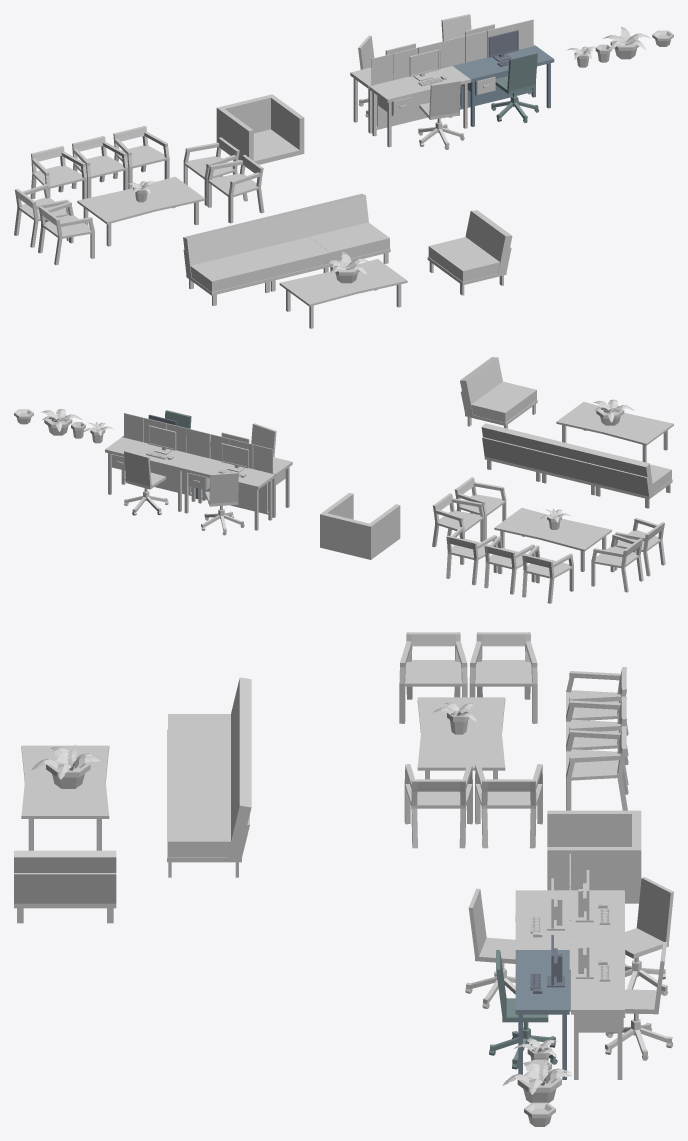
Rendered from V2_Desk_Rico.fbx.
3 views of the same model, one above another, from view 1: azimuth 30°, elevation 25°; view 2: azimuth 150°, elevation 25°; view 3: azimuth 270°, elevation 25° (orthographic). The views are drawn at different scales.
Visible parts, largest first — view 1: Cube, Cube.030, Cube.034, Cube.036, Cube.035, Cube.028, Cube.037, Cube.005, Cube.015, Cube.033, Cube.020, Cube.027 (+18 smaller); view 2: Cube, Cube.036, Cube.030, Cube.028, Cube.017, Cube.037, Cube.025, Cube.035, Cube.034, Cube.022, Cube.021, Cube.038 (+15 smaller); view 3: Cube, Cube.036, Cube.035, Cube.028, Cube.037, Cube.025, Cube.030, Cube.034, Cube.015, Cube.001, Cube.038, Cube.022 (+16 smaller).
Part boxes in pixels (x1=…): Cube: x1=216, y1=94, x2=304, y2=164; Cube.030: x1=183, y1=222, x2=272, y2=305; Cube.034: x1=244, y1=208, x2=330, y2=291; Cube.036: x1=427, y1=210, x2=512, y2=295; Cube.035: x1=302, y1=193, x2=390, y2=271; Cube.028: x1=77, y1=176, x2=205, y2=246; Cube.037: x1=279, y1=259, x2=407, y2=328; Cube.005: x1=369, y1=66, x2=470, y2=147; Cube.015: x1=453, y1=45, x2=554, y2=126; Cube.033: x1=207, y1=155, x2=264, y2=223; Cube.020: x1=418, y1=80, x2=464, y2=149; Cube.027: x1=30, y1=146, x2=86, y2=199; Cube: x1=320, y1=493, x2=400, y2=559; Cube.036: x1=460, y1=357, x2=537, y2=428; Cube.030: x1=590, y1=450, x2=672, y2=508; Cube.028: x1=494, y1=508, x2=611, y2=571; Cube.017: x1=181, y1=456, x2=275, y2=530; Cube.037: x1=556, y1=402, x2=673, y2=462; Cube.025: x1=105, y1=437, x2=198, y2=511; Cube.035: x1=481, y1=423, x2=540, y2=481; Cube.034: x1=536, y1=436, x2=595, y2=495; Cube.022: x1=201, y1=472, x2=244, y2=535; Cube.021: x1=124, y1=450, x2=168, y2=515; Cube.038: x1=591, y1=534, x2=643, y2=592; Cube: x1=547, y1=810, x2=641, y2=903; Cube.036: x1=14, y1=850, x2=116, y2=923; Cube.035: x1=167, y1=762, x2=251, y2=877; Cube.028: x1=417, y1=697, x2=505, y2=779; Cube.037: x1=21, y1=745, x2=109, y2=850; Cube.025: x1=571, y1=950, x2=624, y2=1079; Cube.030: x1=167, y1=677, x2=251, y2=772; Cube.034: x1=167, y1=720, x2=251, y2=814; Cube.015: x1=515, y1=950, x2=569, y2=1079; Cube.001: x1=399, y1=632, x2=467, y2=723; Cube.038: x1=469, y1=632, x2=537, y2=723; Cube.022: x1=625, y1=877, x2=673, y2=995.
Size of the model in its own units: 4827 by 526 by 2843.
